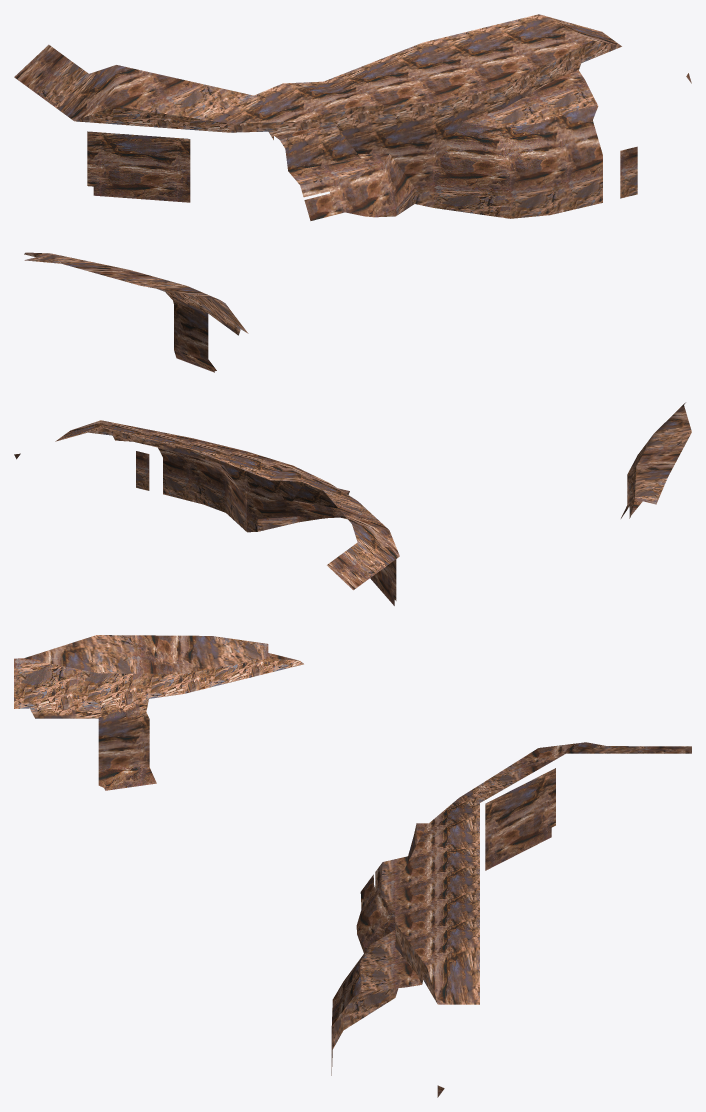
3 renders of one model, top to bottom at view 1: azimuth 30°, elevation 25°; view 2: azimuth 150°, elevation 25°; view 3: azimuth 270°, elevation 25°, orthographic. The views are drawn at different scales.
Parts seen in each view (by area): view 1: Object_4; view 2: Object_4; view 3: Object_4.
Boxes of the visible parts, <box> form: Object_4: <box>14,14,691,372</box>; Object_4: <box>14,402,691,605</box>; Object_4: <box>14,635,691,1097</box>.
Bounding box in the file's own units: 36.69 × 6.51 × 27.31.
Materials: 1 (1 with a texture image).
